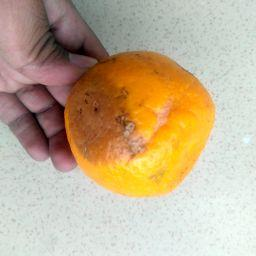Unripe: (66, 52, 217, 197)
